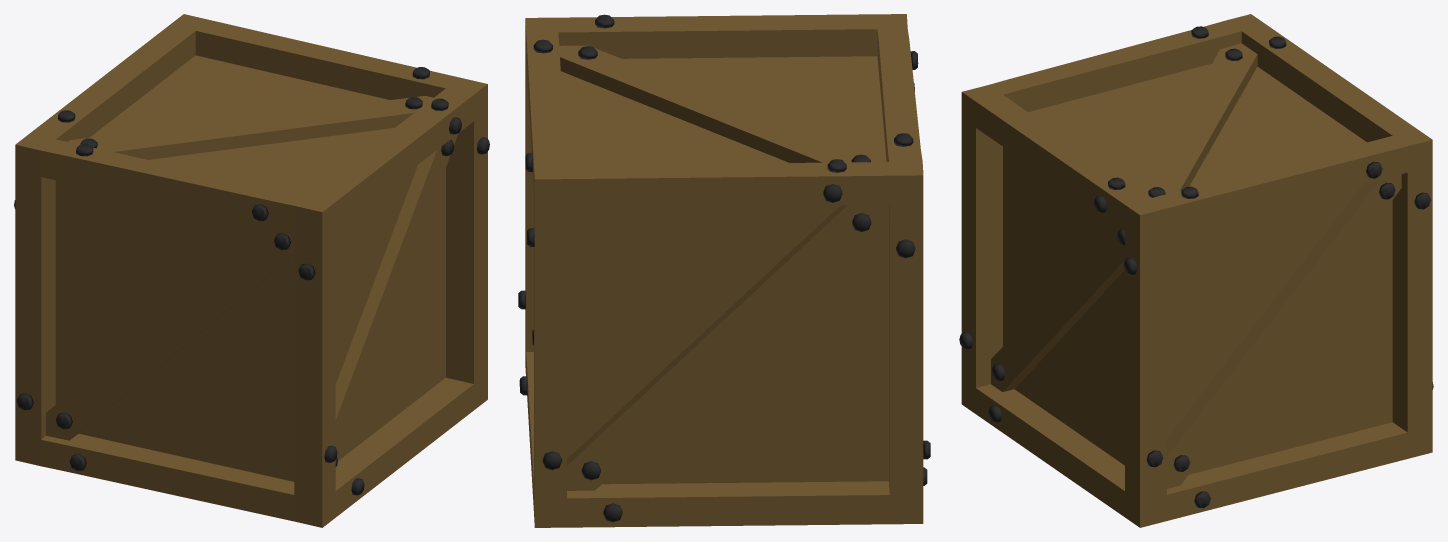
Rendered from kutubig.fbx.
3 views of the same model, side by side, from view 1: azimuth 30°, elevation 25°; view 2: azimuth 150°, elevation 25°; view 3: azimuth 270°, elevation 25° (orthographic). The views are drawn at different scales.
Visible parts, largest first — view 1: Cube.141; view 2: Cube.141; view 3: Cube.141.
Boxes of the visible parts, <box> form: Cube.141: <box>14,14,489,527</box>; Cube.141: <box>518,14,930,527</box>; Cube.141: <box>959,14,1433,527</box>.
Size of the model in its own units: 68.16 by 49.98 by 67.41.
